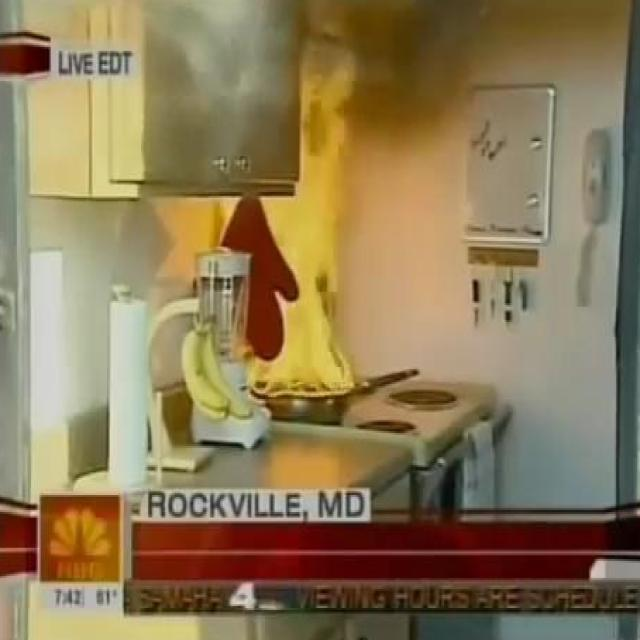fire: (158, 0, 298, 181), (317, 0, 486, 137)
smoke: (230, 50, 359, 400)
